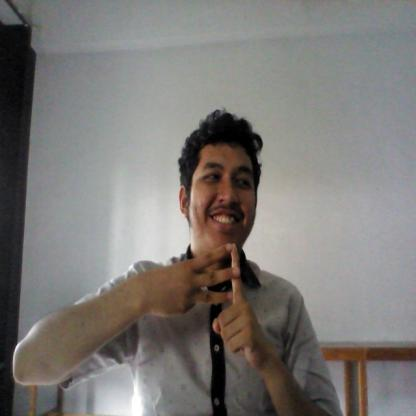B: (167, 241, 264, 362)
